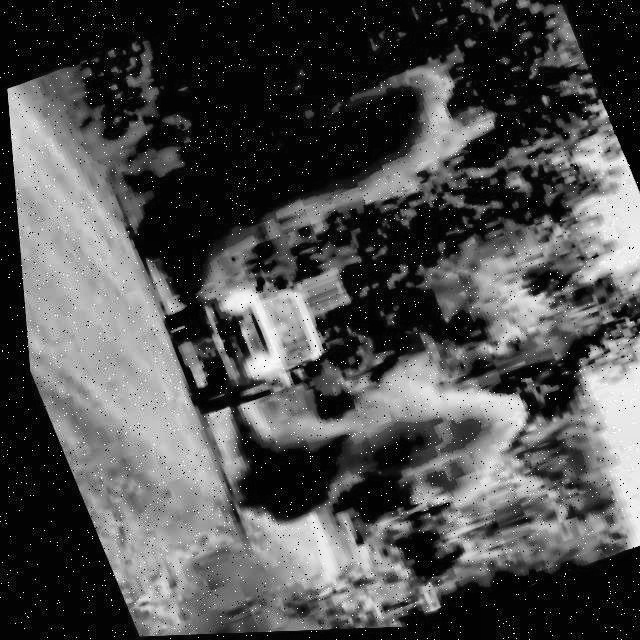Smoke: (83, 30, 526, 331), (175, 310, 550, 585)
